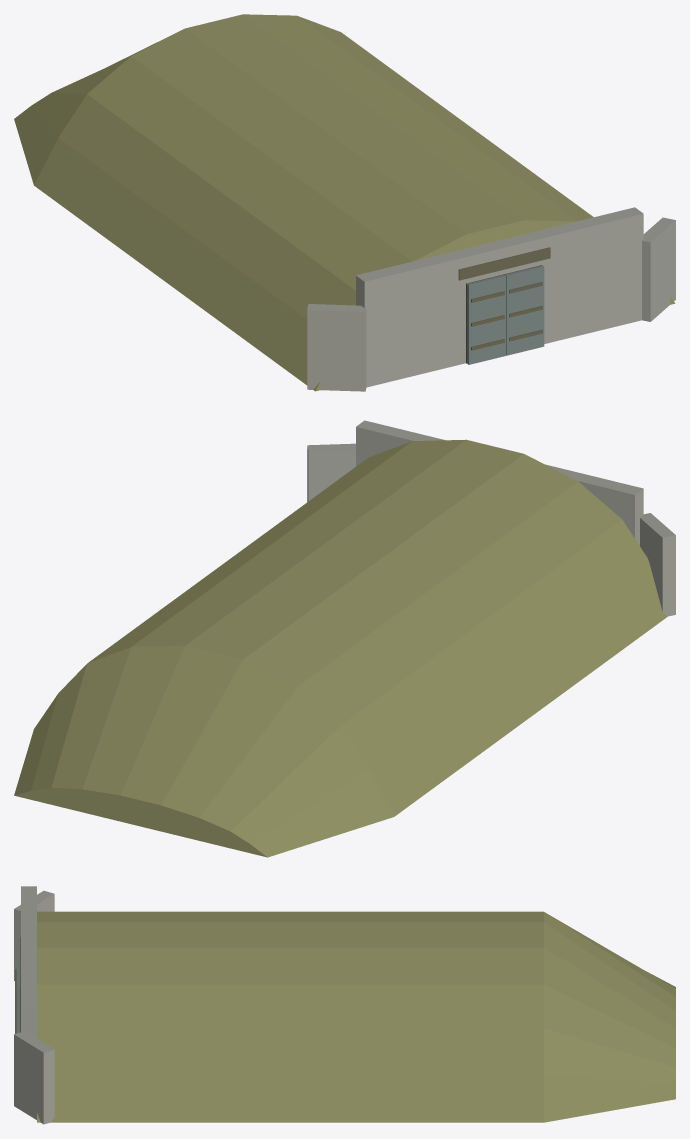
File: SM_Polvorin_v0_LOD0.fbx
3 views of the same model, one above another, from view 1: azimuth 30°, elevation 25°; view 2: azimuth 150°, elevation 25°; view 3: azimuth 270°, elevation 25° (orthographic). The views are drawn at different scales.
Parts seen in each view (by area): view 1: SM_polvorin_v0_LOD0, Puerta_O, Puerta_E; view 2: SM_polvorin_v0_LOD0; view 3: SM_polvorin_v0_LOD0.
Boxes of the visible parts, <box> form: SM_polvorin_v0_LOD0: <box>14,14,675,391</box>; Puerta_O: <box>466,274,506,364</box>; Puerta_E: <box>505,265,544,355</box>; SM_polvorin_v0_LOD0: <box>14,420,675,857</box>; SM_polvorin_v0_LOD0: <box>14,886,675,1124</box>.
Size of the model in its own units: 14.53 by 4.53 by 25.07.
